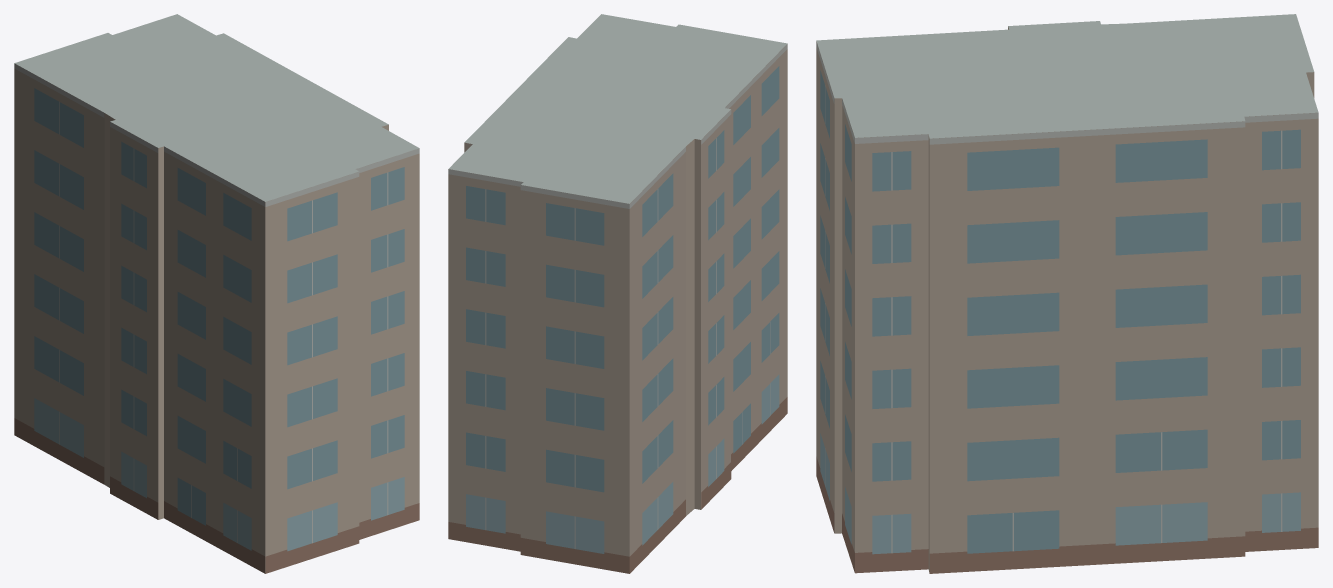
The model's file is survey-upis-32567692.glb.
3 renders of one model, left to right at view 1: azimuth 30°, elevation 25°; view 2: azimuth 150°, elevation 25°; view 3: azimuth 270°, elevation 25°, orthographic. The views are drawn at different scales.
Visible parts, largest first — view 1: survey-upis-32567692.tmp; view 2: survey-upis-32567692.tmp; view 3: survey-upis-32567692.tmp.
Part boxes in pixels (bbox=[...]): survey-upis-32567692.tmp: bbox=[14, 14, 419, 573]; survey-upis-32567692.tmp: bbox=[448, 14, 787, 573]; survey-upis-32567692.tmp: bbox=[816, 14, 1318, 573].
Size of the model in its own units: 10.69 by 17.4 by 18.21.
